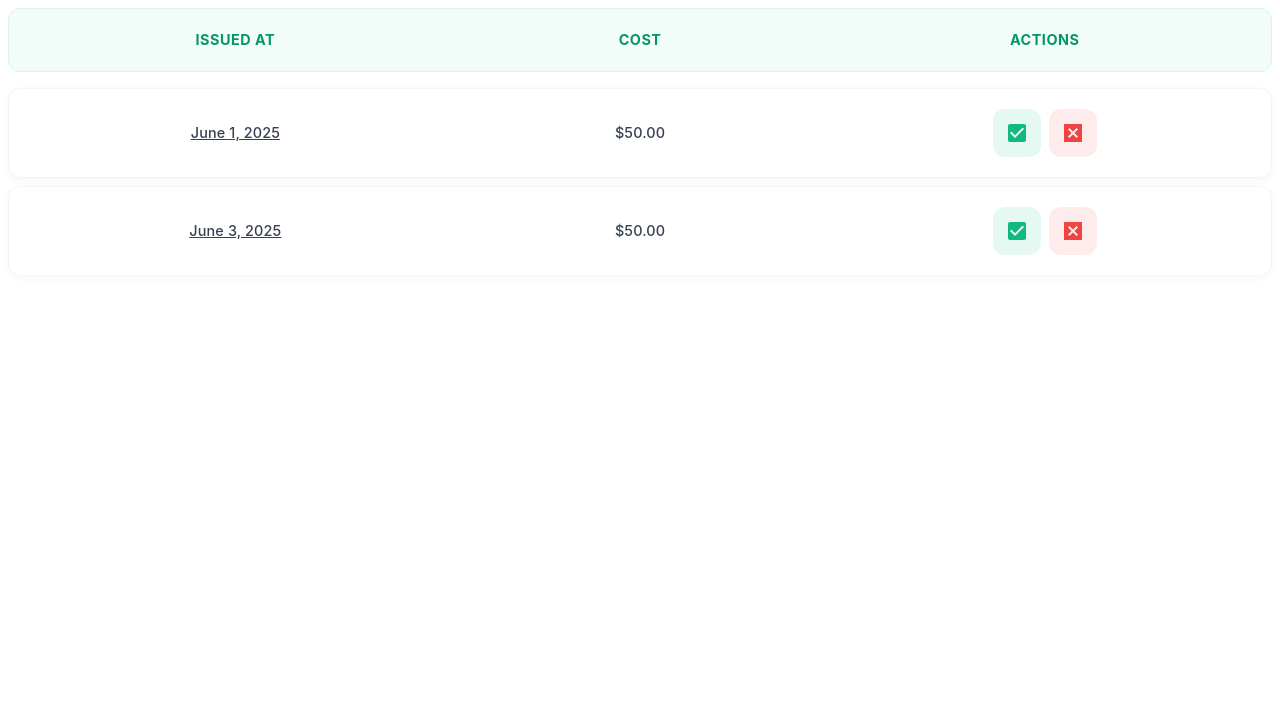
Challenge description closes correctly on click of close button in popup
The image size is (1280, 720).
Expected: the text "June 1, 2025" is shown, [191, 124, 280, 141]
Click the text named "open-desc1" at (235, 230), box [189, 222, 281, 239]
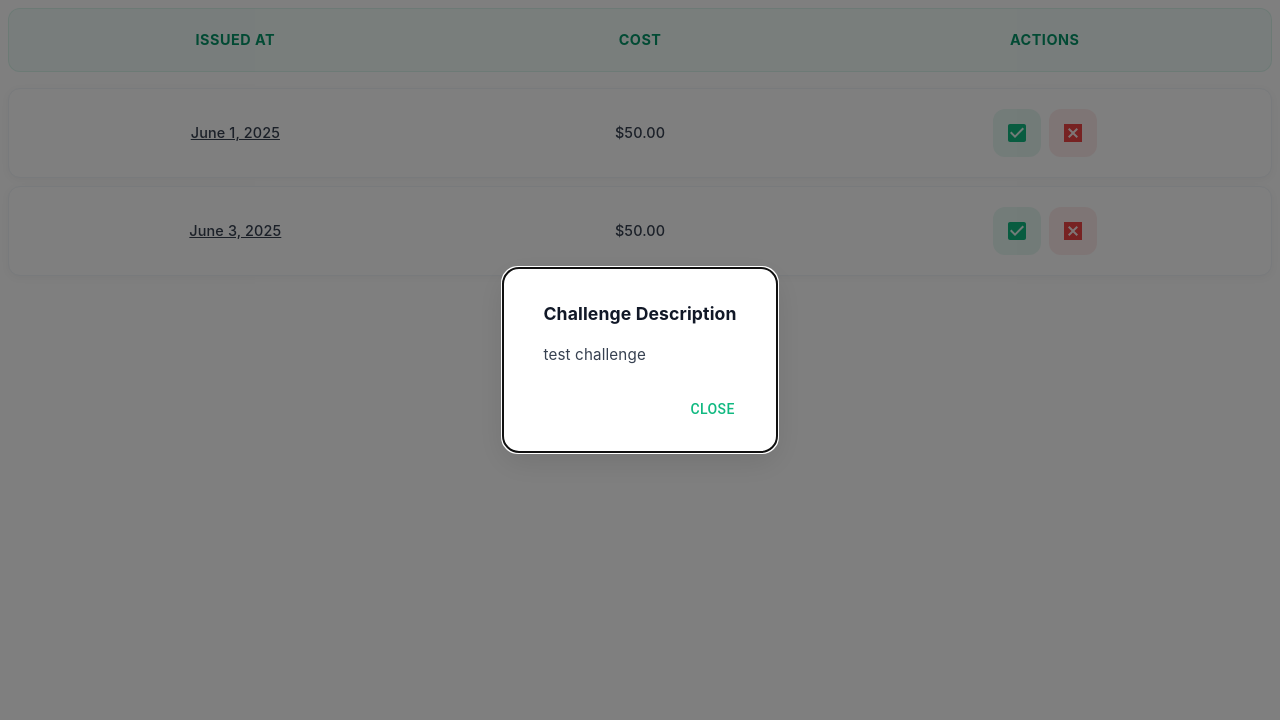
Now the heading "Challenge Description" is shown, box [543, 303, 736, 324]
Click the button with aria-label "close-desc" at (713, 409), box [681, 391, 745, 428]
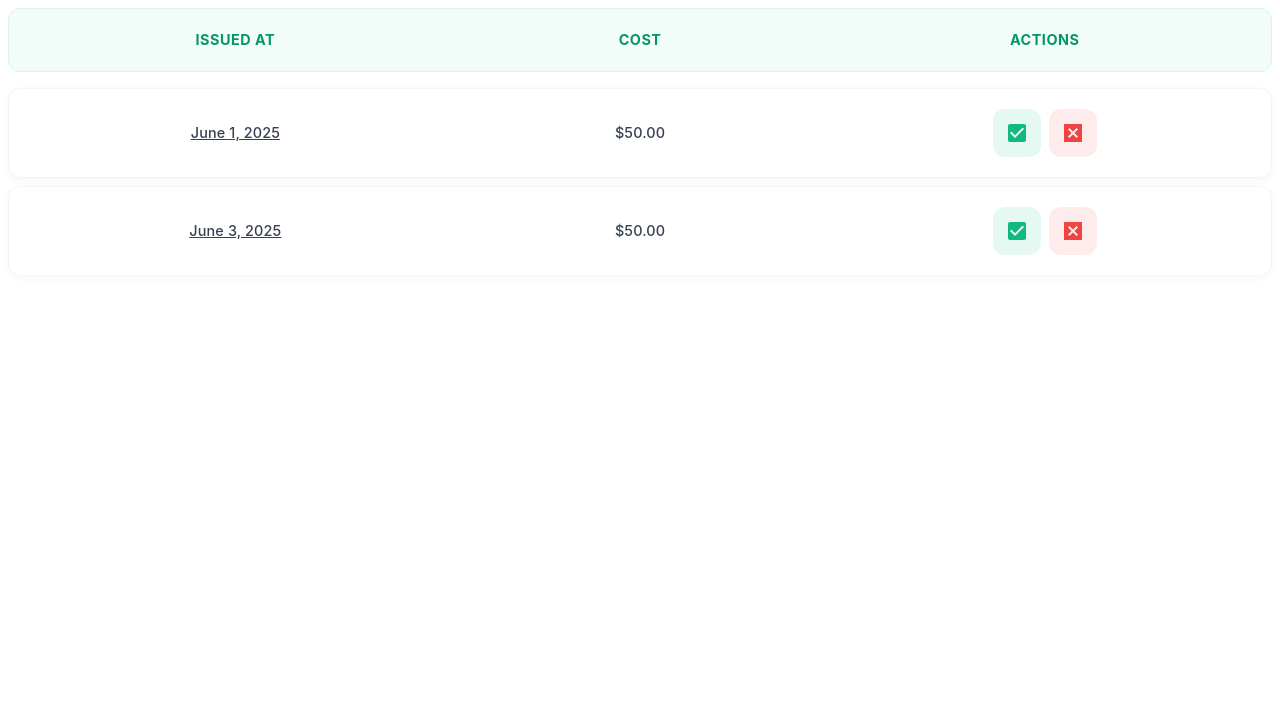
Now the heading "Challenge Description" is gone
